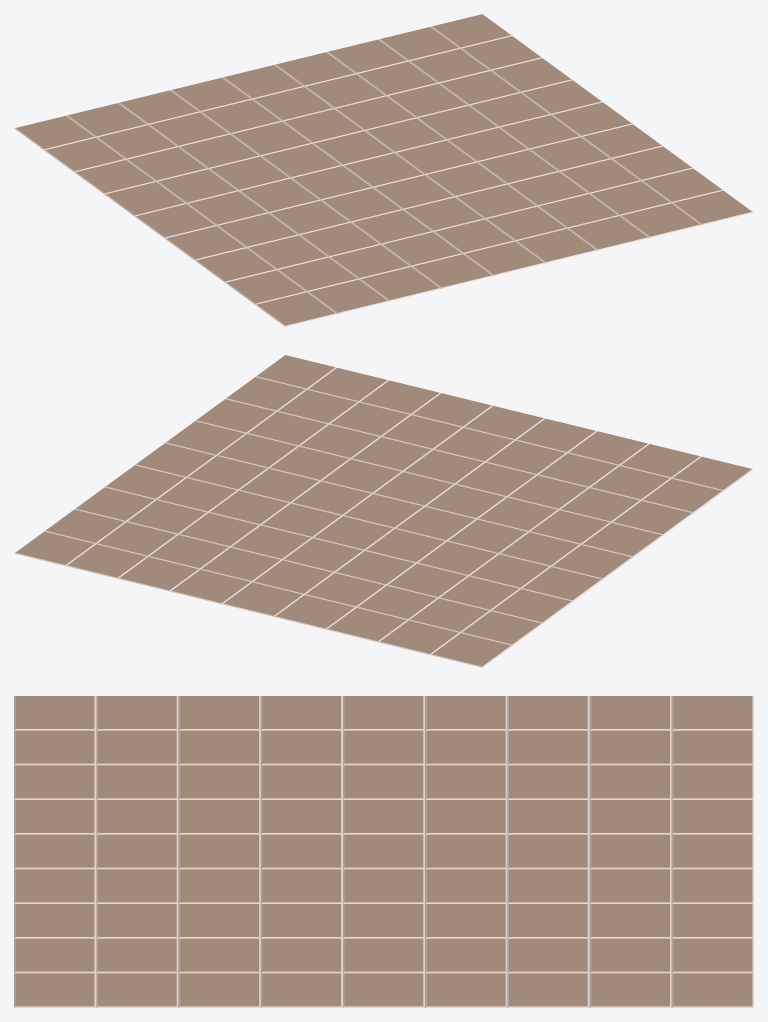
The model's file is Floortile_6.fbx.
3 renders of one model, top to bottom at view 1: azimuth 30°, elevation 25°; view 2: azimuth 150°, elevation 25°; view 3: azimuth 270°, elevation 25°, orthographic. The views are drawn at different scales.
Parts seen in each view (by area): view 1: Floortile_6; view 2: Floortile_6; view 3: Floortile_6.
Boxes of the visible parts, x1,y1,x2,y2 form: Floortile_6: [14, 14, 753, 326]; Floortile_6: [14, 355, 753, 667]; Floortile_6: [14, 696, 753, 1007].
Bounding box in the file's own units: 489 × 490 × 0.6003.
